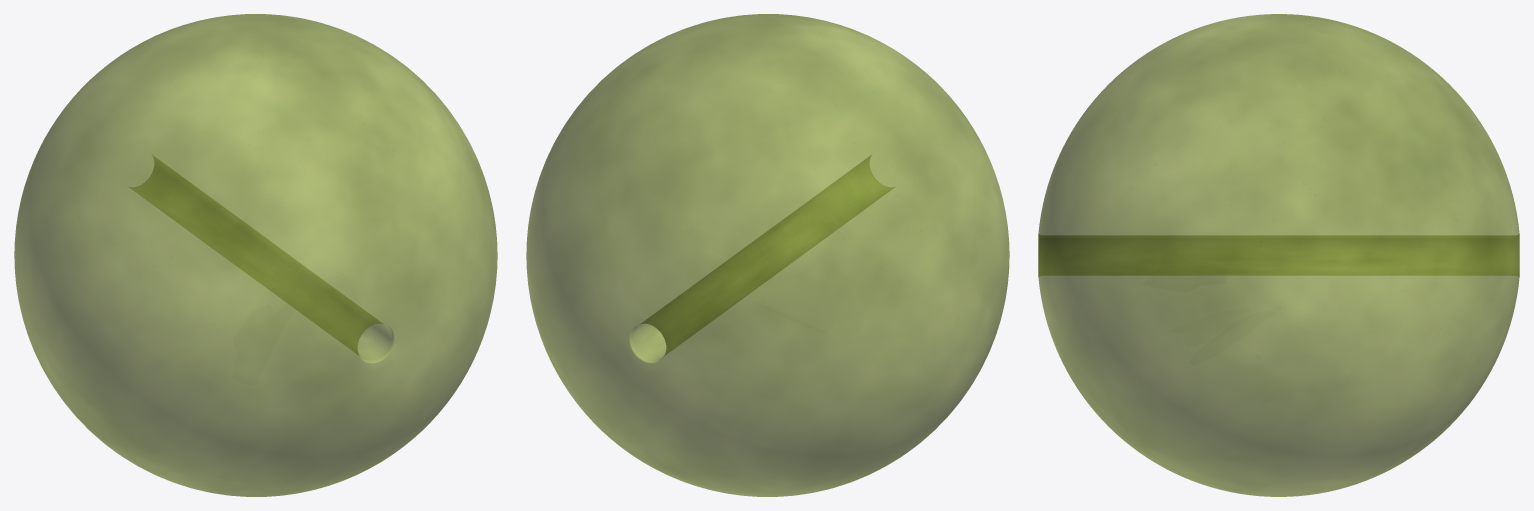
The model's file is peridot-aa-12mm.glb.
3 views of the same model, side by side, from view 1: azimuth 30°, elevation 25°; view 2: azimuth 150°, elevation 25°; view 3: azimuth 270°, elevation 25° (orthographic).
Parts seen in each view (by area): view 1: peridot-aa.001; view 2: peridot-aa.001; view 3: peridot-aa.001.
Part boxes in pixels (x1,y1,x2,y2): peridot-aa.001: [14, 14, 497, 496]; peridot-aa.001: [526, 14, 1009, 496]; peridot-aa.001: [1038, 14, 1519, 496].
Size of the model in its own units: 0.012 by 0.012 by 0.012.
Materials: 2 (1 with a texture image).
